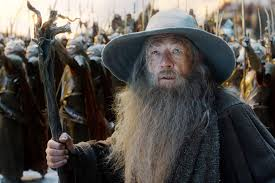gandalf grey: (31, 19, 272, 174)
